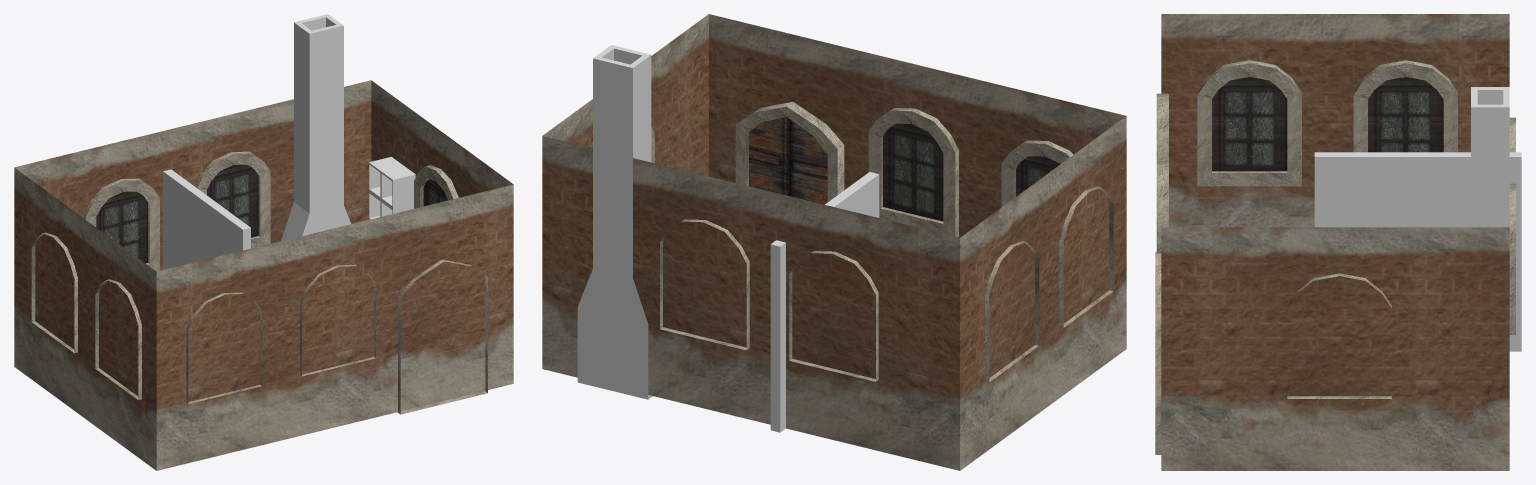
The model's file is house_1.interior.fbx.
3 views of the same model, side by side, from view 1: azimuth 30°, elevation 25°; view 2: azimuth 150°, elevation 25°; view 3: azimuth 270°, elevation 25° (orthographic). The views are drawn at different scales.
Visible parts, largest first — view 1: house_1.002, fireplace_1, table_1.001, store_2; view 2: house_1.002, fireplace_1, table_1.001; view 3: house_1.002, table_1.001, fireplace_1.
Boxes of the visible parts, x1,y1,x2,y2 form: house_1.002: (14, 80, 513, 470); fireplace_1: (281, 14, 351, 241); table_1.001: (163, 169, 250, 269); store_2: (369, 157, 415, 219); house_1.002: (542, 14, 1126, 470); fireplace_1: (577, 45, 652, 399); table_1.001: (770, 172, 879, 432); house_1.002: (1155, 14, 1515, 470); table_1.001: (1314, 152, 1521, 351); fireplace_1: (1471, 87, 1509, 227).
Size of the model in its own units: 6.67 by 4.89 by 4.74.
